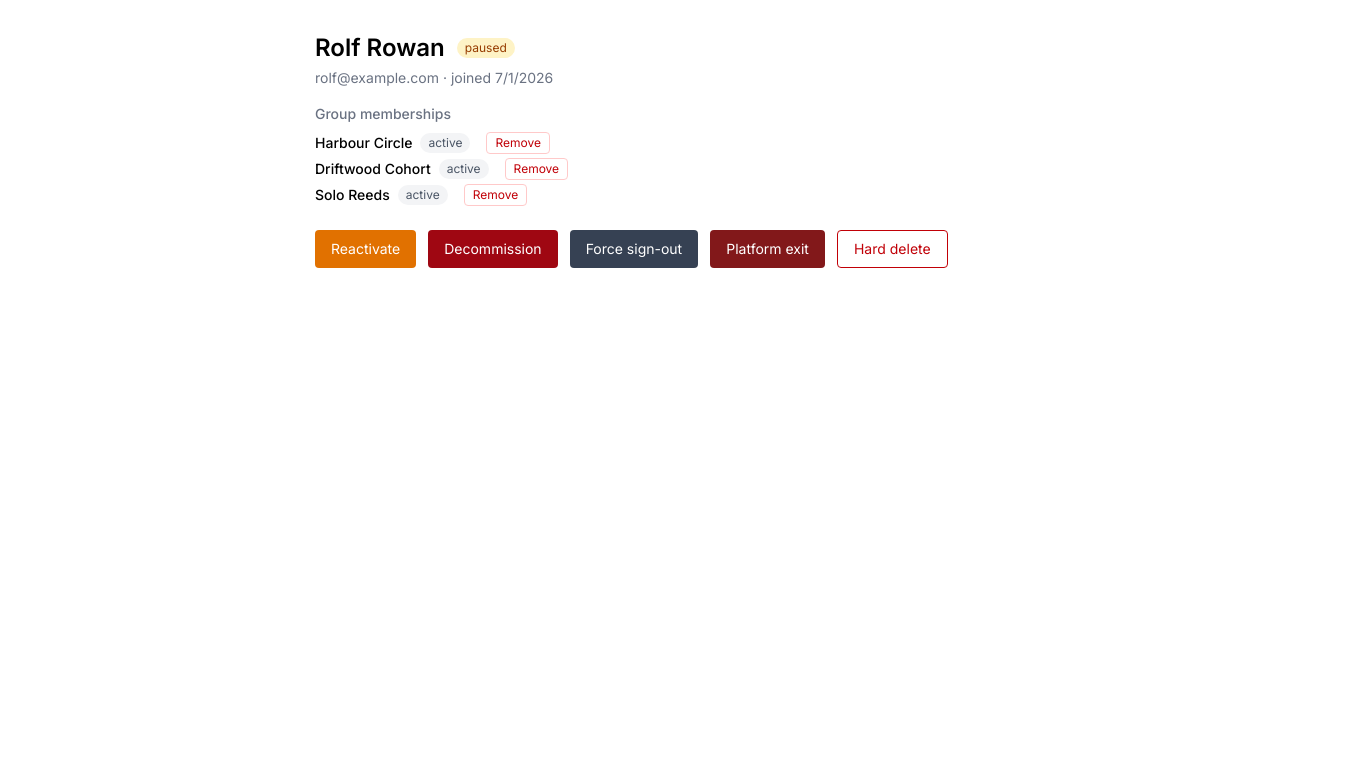
Test: AdminMemberDetail (FEAT-H036 STORY-2..6) › STORY-2 paused member: Reactivate renders and its ceremony copy names the self-pause (origin member)
This screenshot has width=1366, height=768.
Expected: the heading "Rolf Rowan" is shown, [315,32,445,64]
Expected: the text with test id "state-badge" reads "paused", [465,40,507,55]
Click the button with test id "reactivate-member" at (366, 249), box [315,230,416,268]
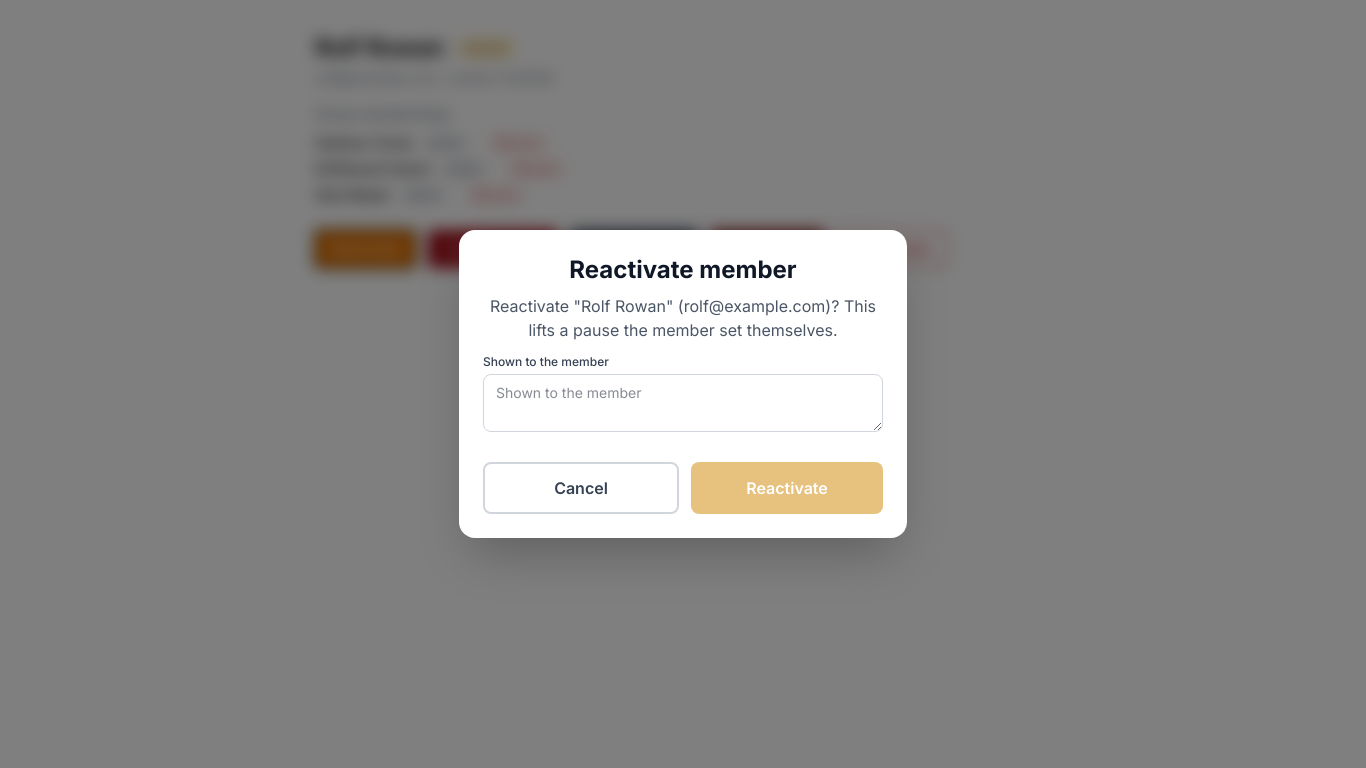
Expected: the text "pause the member set themselves" is shown, [490,296,876,340]
